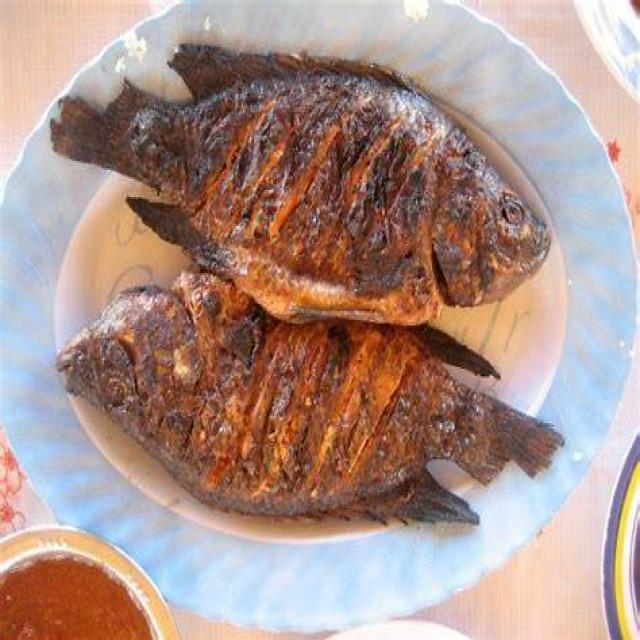Ikan Bakar: (44, 23, 567, 330), (48, 284, 575, 550)
